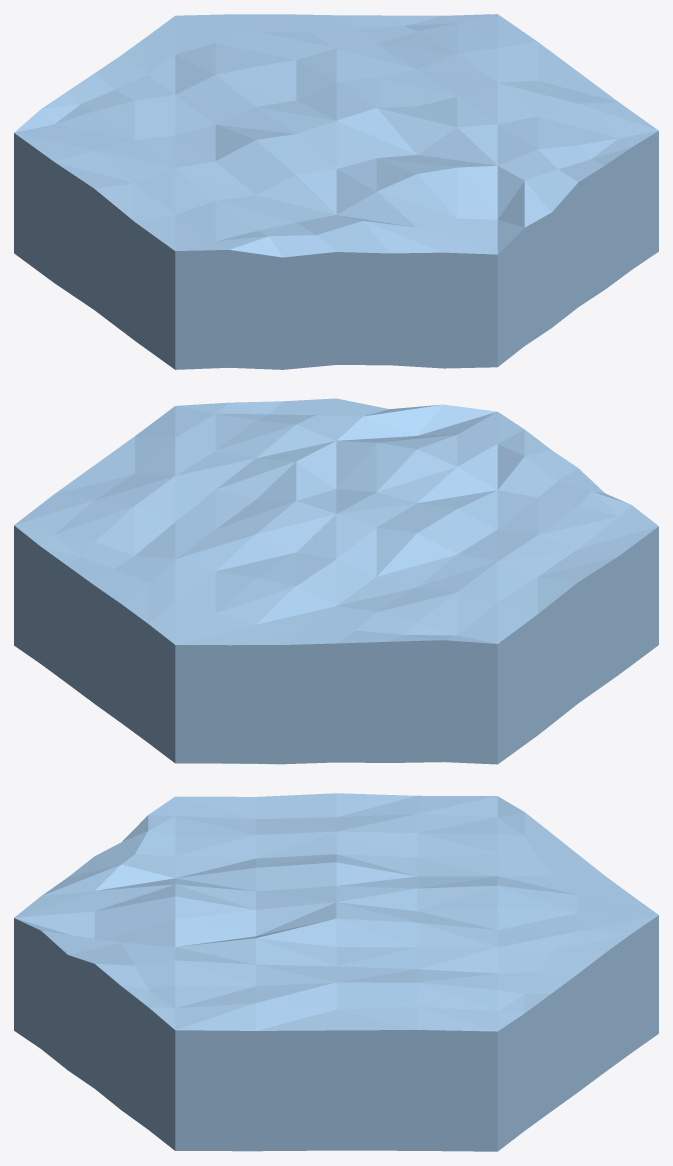
Rendered from Buzul2.fbx.
3 views of the same model, one above another, from view 1: azimuth 30°, elevation 25°; view 2: azimuth 150°, elevation 25°; view 3: azimuth 270°, elevation 25° (orthographic).
Visible parts, largest first — view 1: Circle; view 2: Circle; view 3: Circle.
Part boxes in pixels (x1,y1,x2,y2): Circle: (14,14,658,369); Circle: (14,398,658,764); Circle: (14,793,658,1151).
Size of the model in its own units: 173 by 47.41 by 200.
